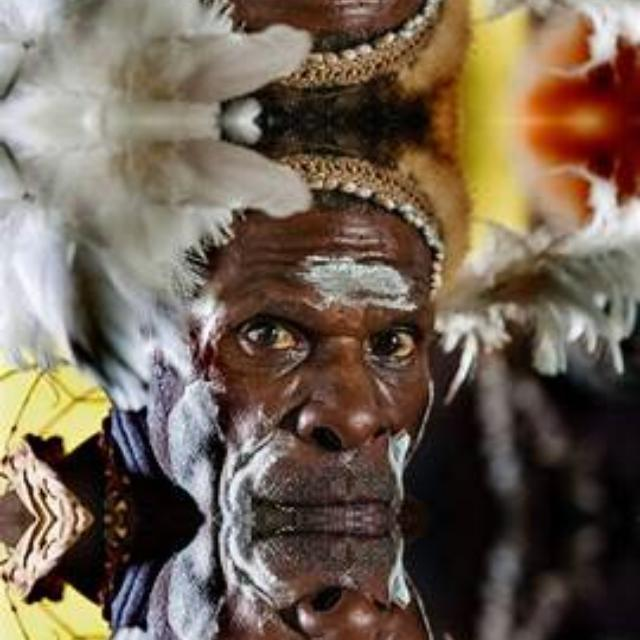person: (140, 130, 480, 518), (140, 518, 479, 640), (140, 0, 479, 110)
